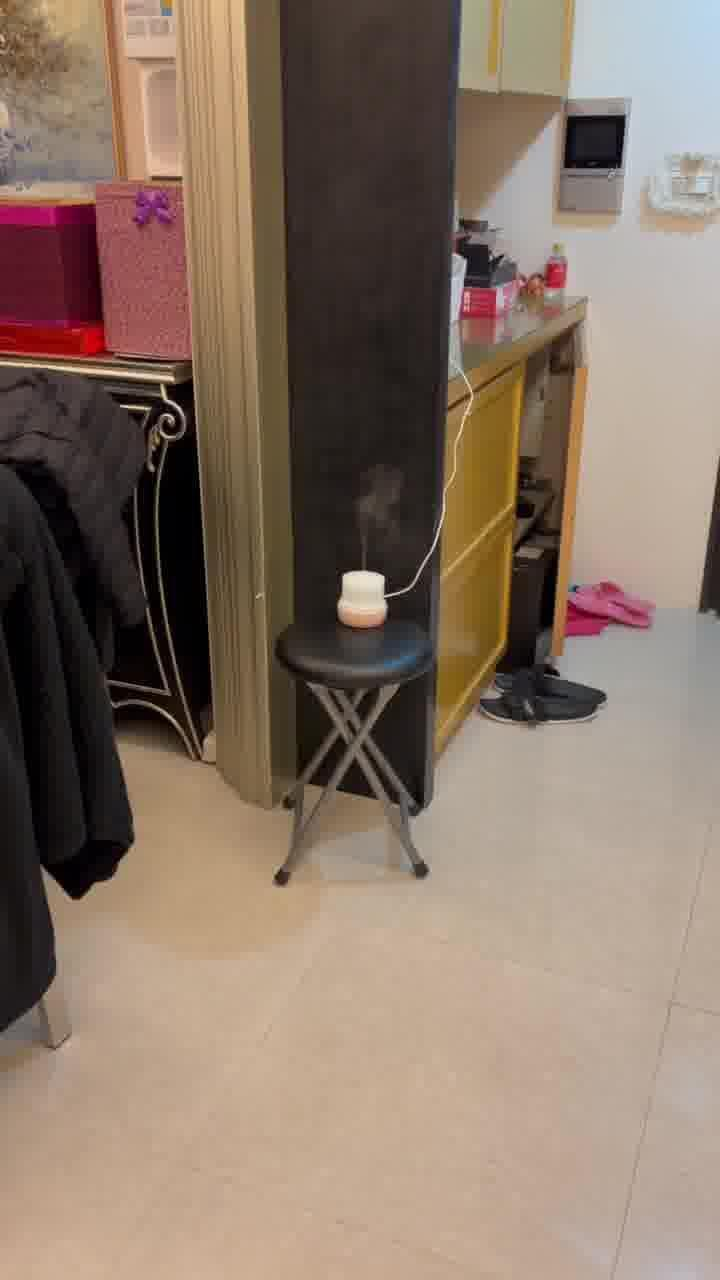smoke: (348, 450, 416, 559)
